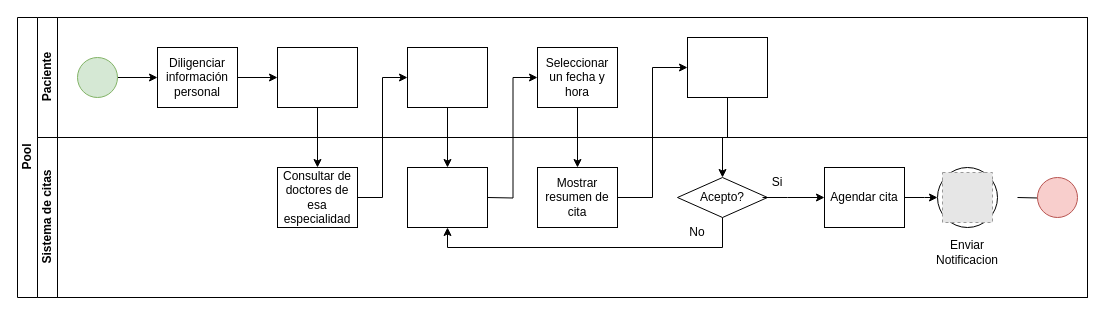
This 1105x315 diagram has some shape labels left out. Grey dashed boxes stand in for pictures. Here are the shapes that lost their labels. From the top down, the centre of each, then its label:
At point 317,77: "Seleccionar modalidad y especialidad".
At point 447,77: "Seleccionar doctor".
At point 727,67: "Confirmar cita".
At point 447,197: "Consultar y retornar horarios disponibles".
